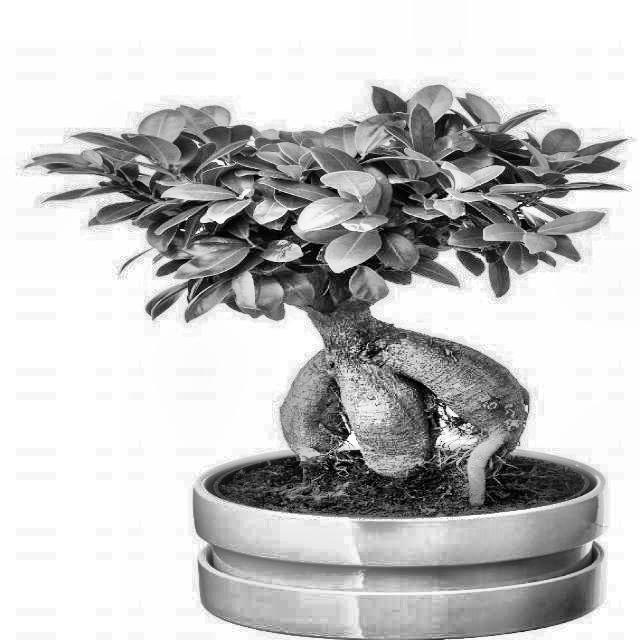plants: (56, 107, 640, 624)
